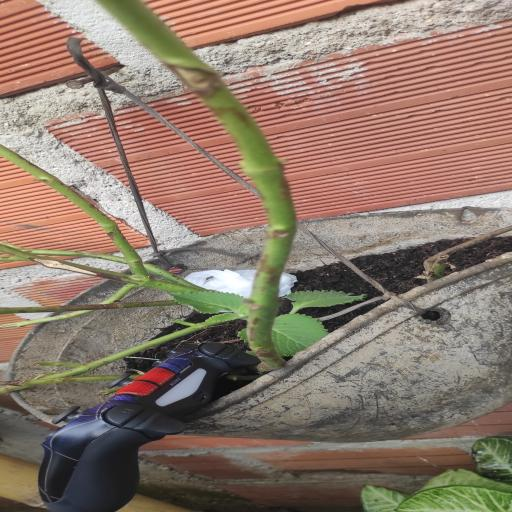ControlPlay4: (38, 342, 260, 512)
